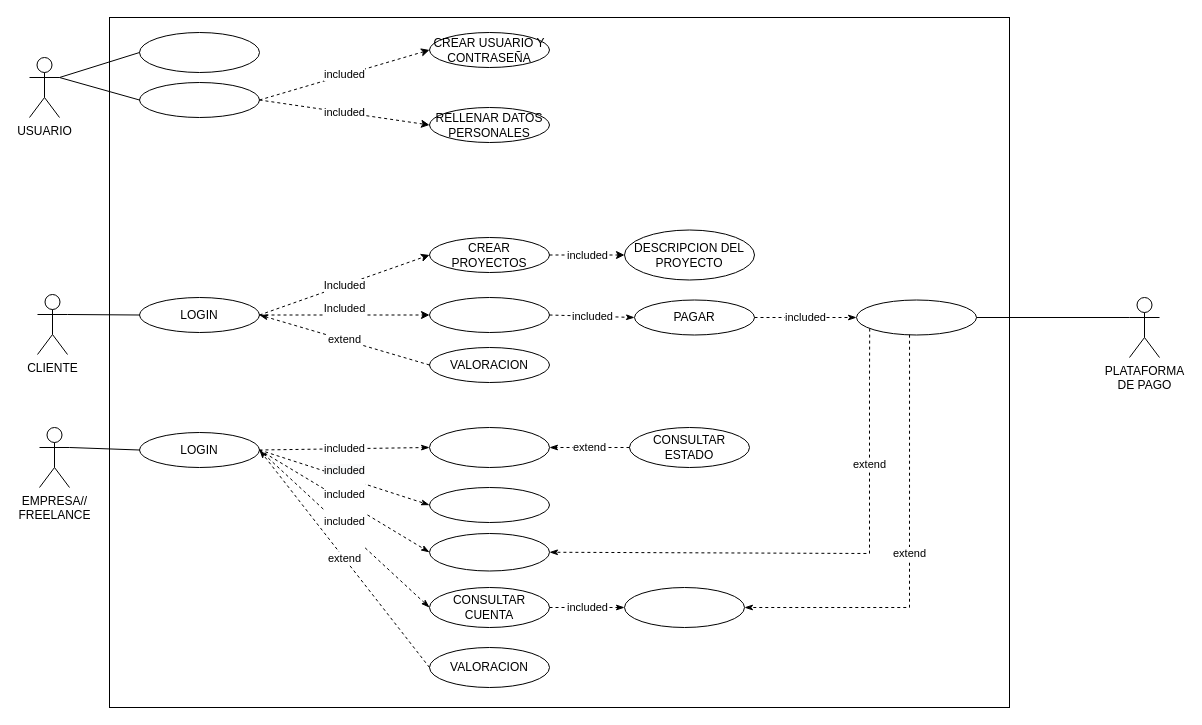
This 1202x725 diagram has some shape labels left out. Here are the shapes that lost their labels. From the top down, the box of each, then its label:
(138, 32, 260, 72): VER OFERTAS
(138, 82, 260, 118): REGISTRARSE
(428, 296, 550, 332): ACEPTAR EMPRESA
(856, 299, 976, 335): VALIDAR PAGO
(428, 426, 550, 468): PUJAR POR PROYECTOS
(428, 486, 550, 522): REVISAR OFERTA
(428, 532, 550, 571): REVISAR ENCARGOS
(624, 586, 744, 628): VOLCAR DINERO
